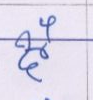ai_matra: (40, 15, 57, 38)
